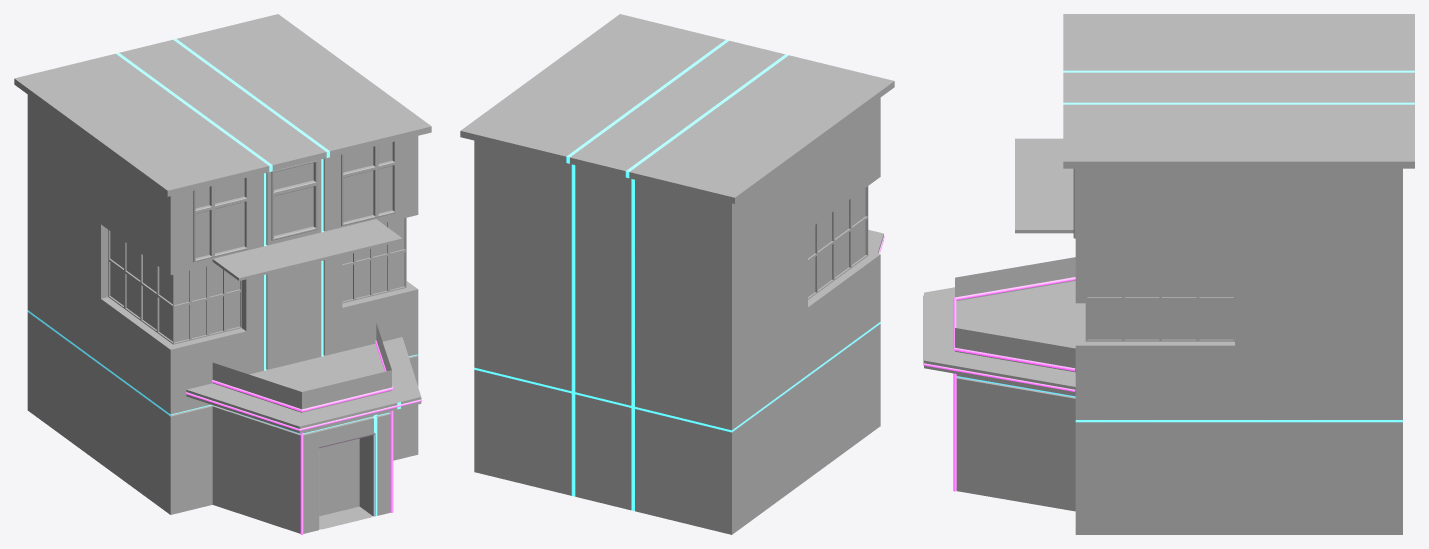
3 renders of one model, left to right at view 1: azimuth 30°, elevation 25°; view 2: azimuth 150°, elevation 25°; view 3: azimuth 270°, elevation 25°, orthographic. The views are drawn at different scales.
Visible parts, largest first — view 1: Building 2; view 2: Building 2; view 3: Building 2.
Boxes of the visible parts, bbox=[...] form: Building 2: bbox=[14, 14, 431, 534]; Building 2: bbox=[460, 14, 894, 534]; Building 2: bbox=[923, 14, 1414, 534].
Bounding box in the file's own units: 8.53 × 10.19 × 12.02.
